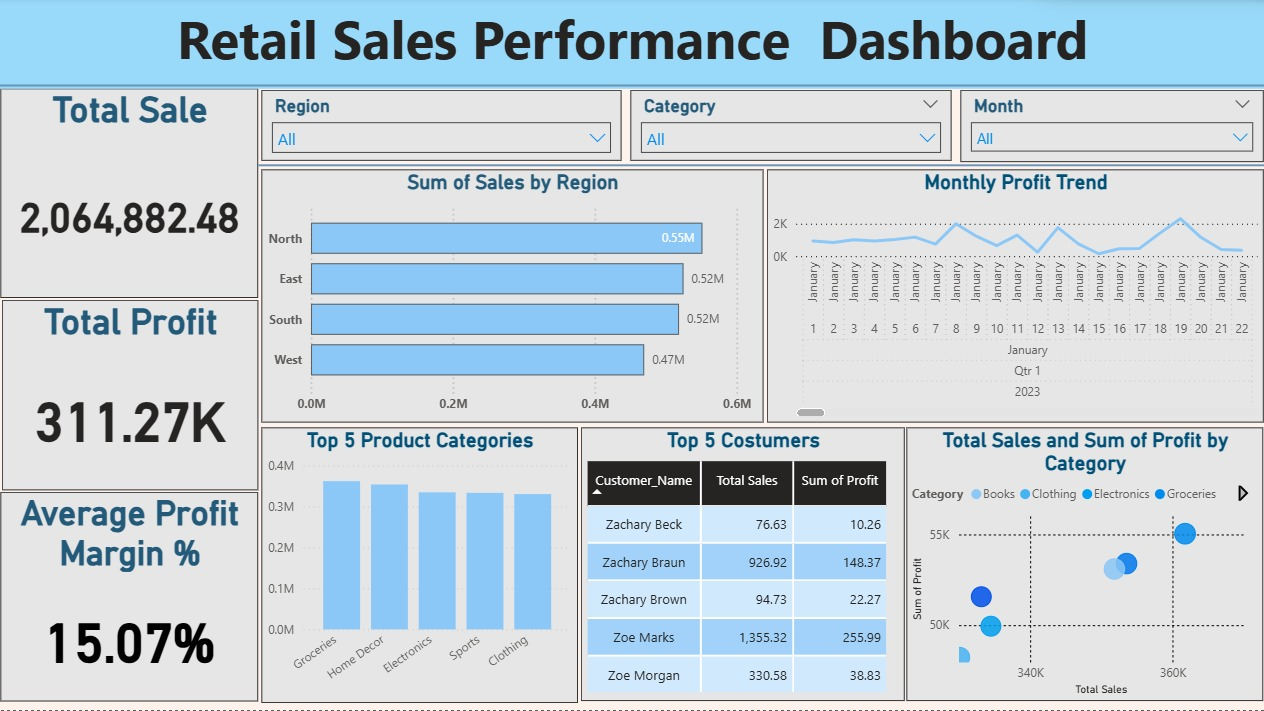

The page's visual inventory and layout, read from the dashboard file:
{"tool":"powerbi","page":{"name":"Page 1","canvas":[1280,720],"ordinal":0},"visuals":[{"type":"card","title":"Total Sale","fields":{"Values":["sales_data.Sales"]},"box":[1.6,92.1,260.3,211.1],"z":0},{"type":"card","title":"Total Profit","fields":{"Values":["sales_data.Profit"]},"box":[3.2,306.3,258.7,192.1],"z":1000},{"type":"card","title":"Average Profit Margin %","fields":{"Values":["sales_data.Profit Margin %"]},"box":[1.6,500,260.3,211.1],"z":2000},{"type":"actionButton","box":[0,0,100,40],"z":3000},{"type":"textbox","box":[0,0,1279.4,81.3],"z":4000},{"type":"textbox","box":[0,0,1279.4,92.6],"z":5000},{"type":"slicer","fields":{"Values":["sales_data.Region"]},"box":[265,93.9,363.4,71.2],"z":6000},{"type":"slicer","fields":{"Values":["sales_data.Category"]},"box":[637.5,93.9,324,71.2],"z":7000},{"type":"slicer","fields":{"Values":["sales_data.Month"]},"box":[970.6,93.9,305.9,72.7],"z":8000},{"type":"shape","box":[261.9,163.5,1017.5,12.7],"z":9000},{"type":"shape","box":[0,83.3,1279.5,12.1],"z":10000},{"type":"clusteredBarChart","fields":{"Category":["sales_data.Region"],"Y":["sales_data.Sales"]},"box":[265.1,174.6,506.3,255.6],"z":11000},{"type":"lineChart","title":"Monthly Profit Trend","fields":{"Category":["sales_data.Date.Variation.Date Hierarchy.Year","sales_data.Date.Variation.Date Hierarchy.Quarter","sales_data.Date.Variation.Date Hierarchy.Month","sales_data.Date.Variation.Date Hierarchy.Day","sales_data.Month"],"Y":["sales_data.Profit"]},"box":[774.6,174.6,501.6,255.6],"z":12000},{"type":"clusteredColumnChart","title":"Top 5  Product Categories","fields":{"Category":["sales_data.Category"],"Y":["sales_data.Total Sales"]},"box":[265.1,434.9,319,277.8],"z":13000},{"type":"tableEx","title":"Top 5 Costumers","fields":{"Values":["sales_data.Customer_Name","sales_data.Total Sales","sales_data.Profit"]},"box":[587.3,434.9,327,276.2],"z":14000},{"type":"scatterChart","title":"Total Sales and Sum of Profit by Category","fields":{"X":["sales_data.Total Sales"],"Y":["sales_data.Profit"],"Series":["sales_data.Category"],"Size":["sales_data.Total Sales"]},"box":[915.9,434.9,360.3,276.2],"z":15000}]}

Visuals, with their boxes in screenshot pixels (x1, y1, x2, y2), scaled from the page's 1280x720 canvas onto the 1264x711 screenshot:
"Total Sale" card: select_region(2, 91, 259, 299)
"Total Profit" card: select_region(3, 302, 259, 492)
"Average Profit Margin %" card: select_region(2, 494, 259, 702)
actionButton: select_region(0, 0, 99, 40)
textbox: select_region(0, 0, 1263, 80)
textbox: select_region(0, 0, 1263, 91)
slicer - sales_data.Region: select_region(262, 93, 621, 163)
slicer - sales_data.Category: select_region(630, 93, 949, 163)
slicer - sales_data.Month: select_region(958, 93, 1261, 165)
shape: select_region(259, 161, 1263, 174)
shape: select_region(0, 82, 1263, 94)
clusteredBarChart - sales_data.Region x sales_data.Sales: select_region(262, 172, 762, 425)
"Monthly Profit Trend" lineChart: select_region(765, 172, 1260, 425)
"Top 5  Product Categories" clusteredColumnChart: select_region(262, 429, 577, 704)
"Top 5 Costumers" tableEx: select_region(580, 429, 903, 702)
"Total Sales and Sum of Profit by Category" scatterChart: select_region(904, 429, 1260, 702)
